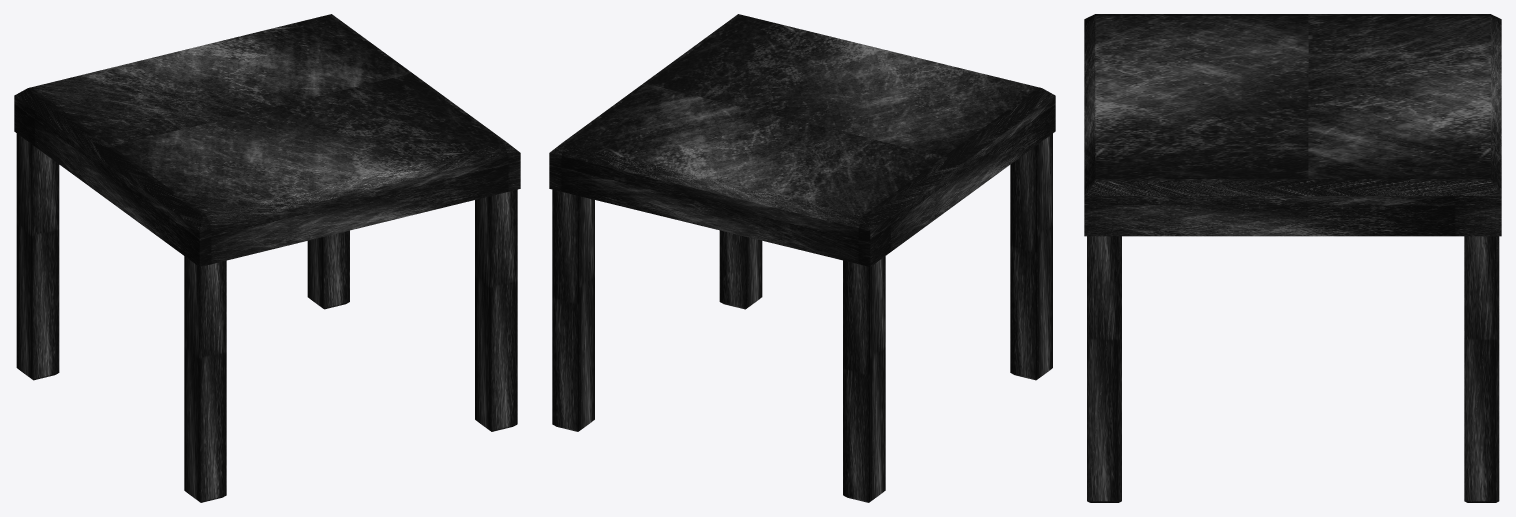
Rendered from Chair2.fbx.
3 renders of one model, left to right at view 1: azimuth 30°, elevation 25°; view 2: azimuth 150°, elevation 25°; view 3: azimuth 270°, elevation 25°, orthographic. The views are drawn at different scales.
Parts seen in each view (by area): view 1: pCube1, pCube2, pCube3, pCube5, pCube4; view 2: pCube1, pCube5, pCube4, pCube2, pCube3; view 3: pCube1, pCube4, pCube3.
Part boxes in pixels (x1,y1,x2,y2): pCube1: [14, 14, 520, 266]; pCube2: [184, 256, 226, 502]; pCube3: [475, 189, 517, 431]; pCube5: [16, 133, 59, 380]; pCube4: [307, 230, 349, 309]; pCube1: [549, 14, 1055, 266]; pCube5: [843, 256, 885, 502]; pCube4: [552, 189, 594, 431]; pCube2: [1010, 133, 1052, 380]; pCube3: [719, 230, 762, 309]; pCube1: [1084, 14, 1501, 236]; pCube4: [1464, 236, 1499, 502]; pCube3: [1087, 236, 1121, 502].
Size of the model in its own units: 5.35 by 4.52 by 5.35.
